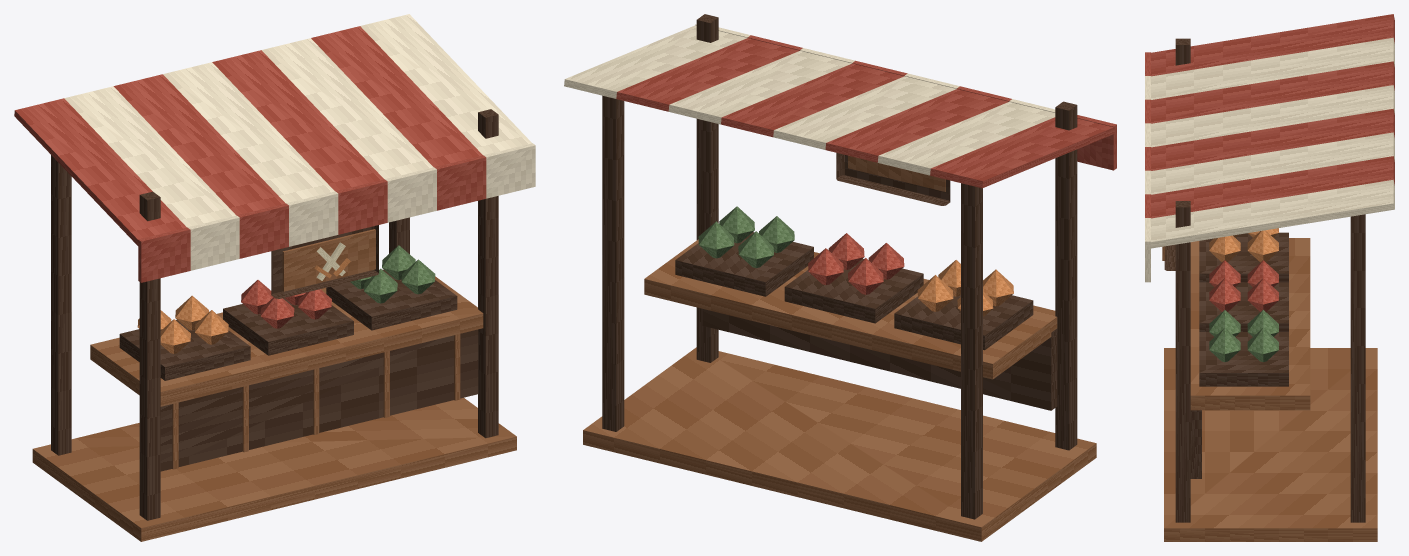
Rendered from Marche.glb.
3 views of the same model, side by side, from view 1: azimuth 30°, elevation 25°; view 2: azimuth 150°, elevation 25°; view 3: azimuth 270°, elevation 25° (orthographic). The views are drawn at different scales.
Visible parts, largest first — view 1: Structure; view 2: Structure; view 3: Structure.
Part boxes in pixels (x1=…): Structure: x1=14, y1=14, x2=535, y2=541; Structure: x1=564, y1=14, x2=1116, y2=541; Structure: x1=1145, y1=14, x2=1394, y2=541.
Bounding box in the file's own units: 4.2 × 3.55 × 2.34.
Materials: 1 (1 with a texture image).
